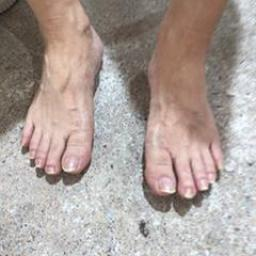Dorsal View -Both Feet-: (13, 4, 227, 214)
